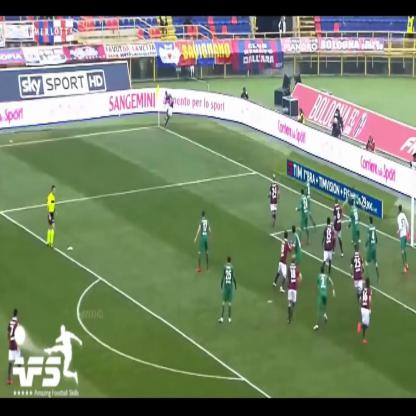corner kick: (136, 40, 185, 156)
